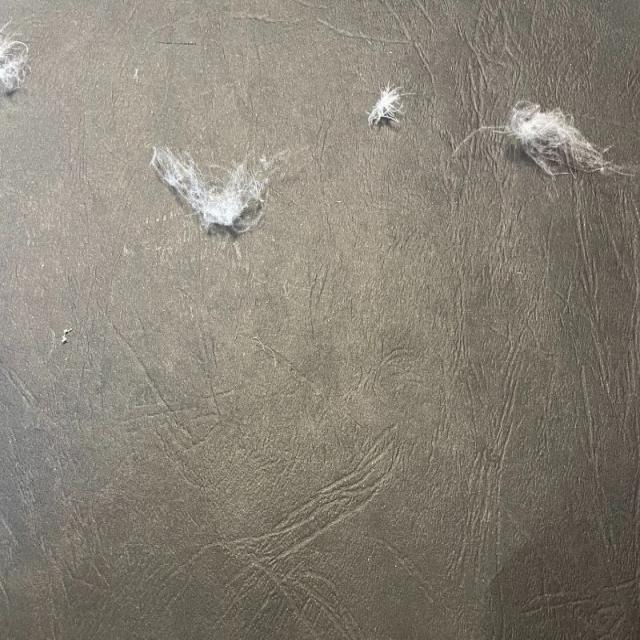feather: (146, 142, 281, 232), (504, 94, 613, 178), (0, 20, 34, 99), (366, 82, 407, 128)
